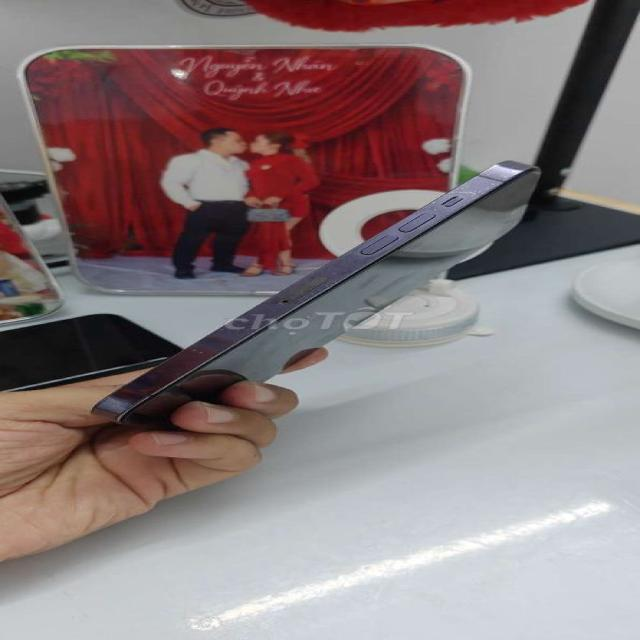gen_14: (89, 154, 543, 441)
scratch: (421, 171, 540, 214), (282, 272, 350, 306), (172, 333, 228, 359)
